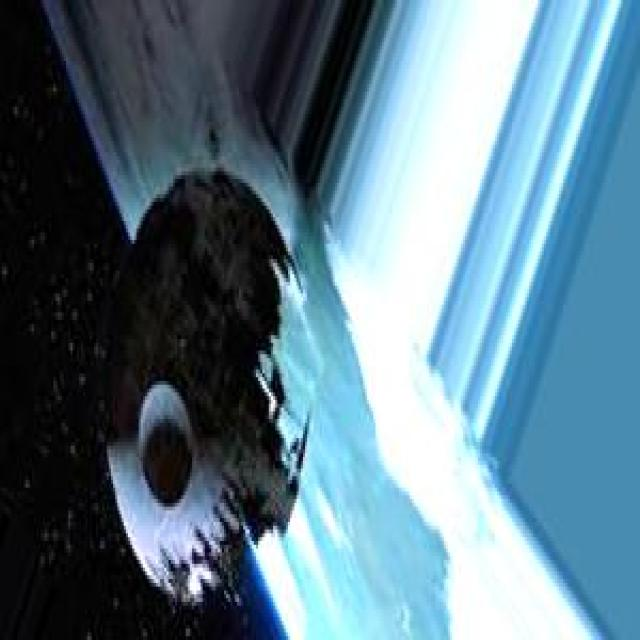deathstar: (102, 166, 314, 611)
